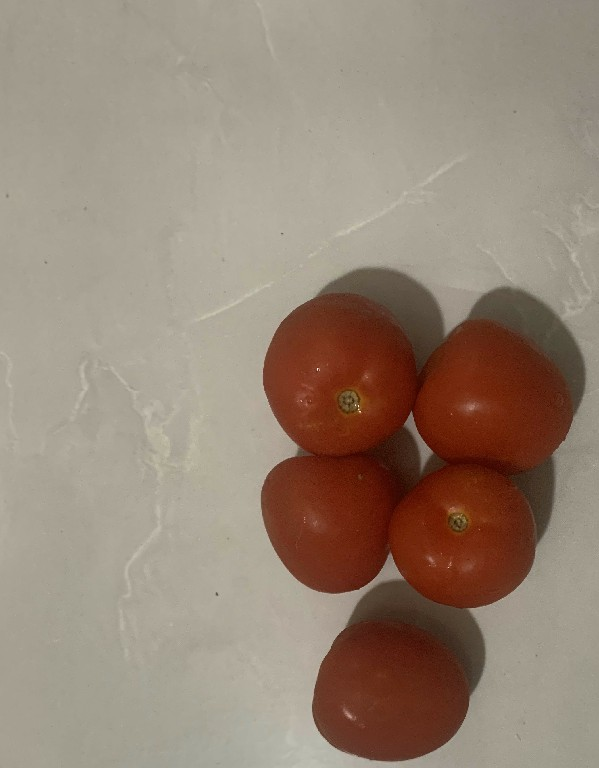OK: (264, 291, 417, 460), (310, 620, 477, 763), (420, 317, 569, 468), (391, 465, 538, 612), (258, 460, 400, 600)
